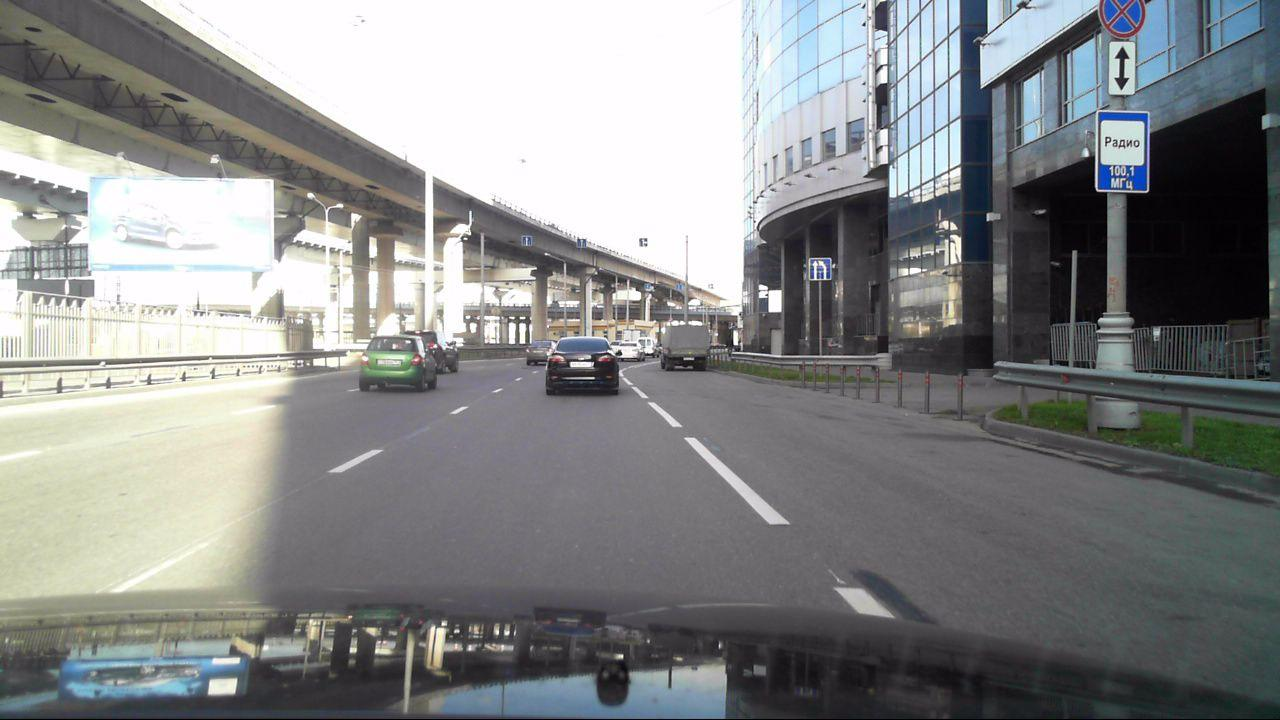3_27: (1098, 0, 1145, 38)
5_15_2: (521, 234, 533, 247), (638, 236, 649, 248), (576, 238, 588, 248), (675, 283, 682, 291), (644, 282, 650, 289)
5_15_5: (809, 257, 832, 280)
7_15: (1096, 108, 1150, 194)
8_2_4: (1107, 39, 1136, 94)
